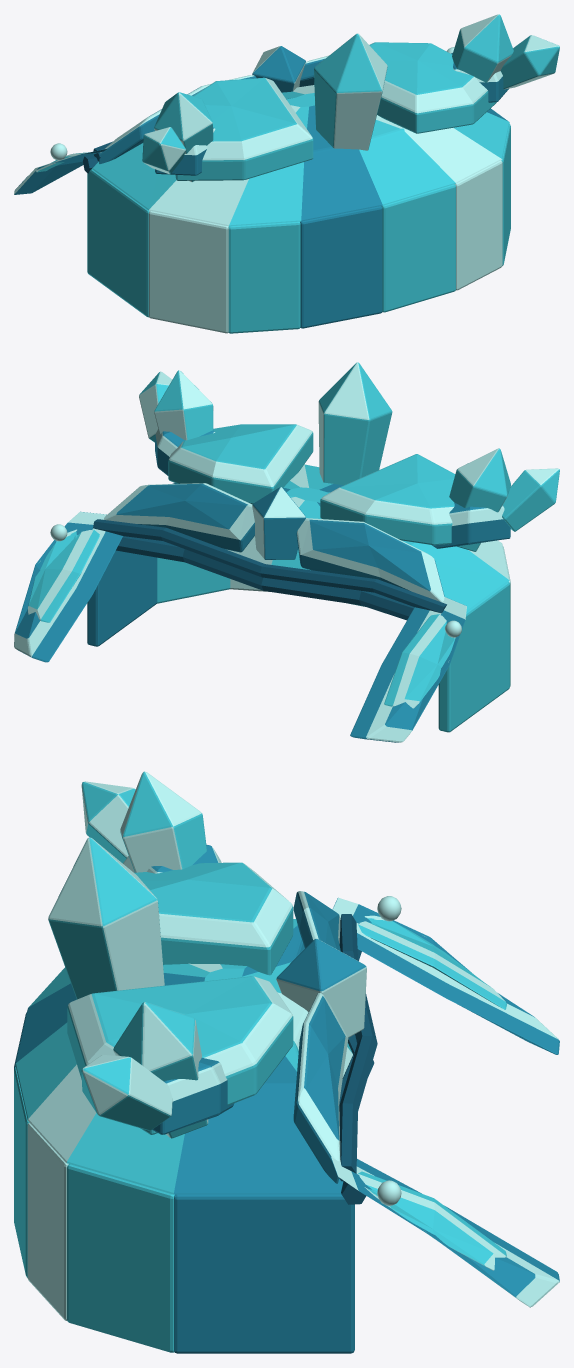
Rendered from diamond_helmet.fbx.
The picture shows the model from 3 angles, top to bottom: view 1: azimuth 30°, elevation 25°; view 2: azimuth 150°, elevation 25°; view 3: azimuth 270°, elevation 25°; orthographic projection. The views are drawn at different scales.
Parts seen in each view (by area): view 1: diamond_helmet_armor; view 2: diamond_helmet_armor; view 3: diamond_helmet_armor.
Part boxes in pixels (left/top/right/bottom): diamond_helmet_armor: left=14, top=14, right=559, bottom=333; diamond_helmet_armor: left=14, top=362, right=559, bottom=742; diamond_helmet_armor: left=14, top=771, right=559, bottom=1353.
Bounding box in the file's own units: 4.51 × 2.72 × 3.49.
1 material, 1 textured.
